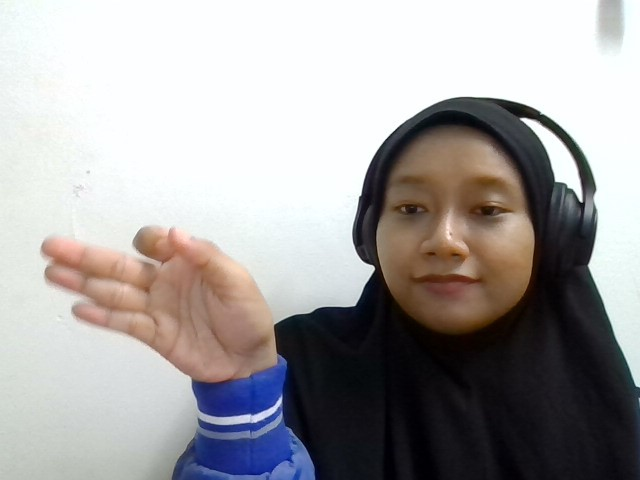Tudung: (40, 223, 277, 381)
